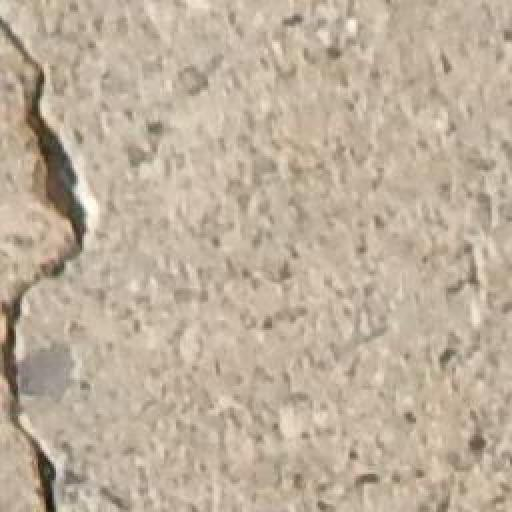spalling: (0, 15, 109, 512)
